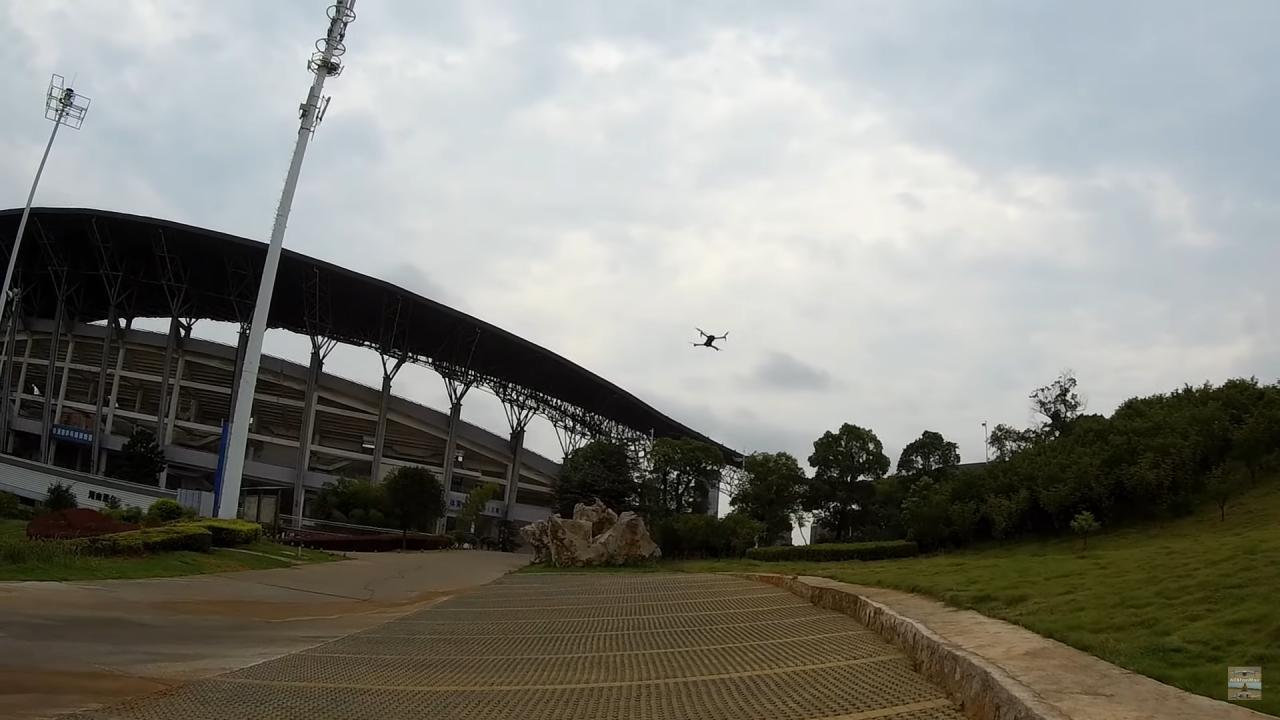Drone: (685, 322, 734, 358)
